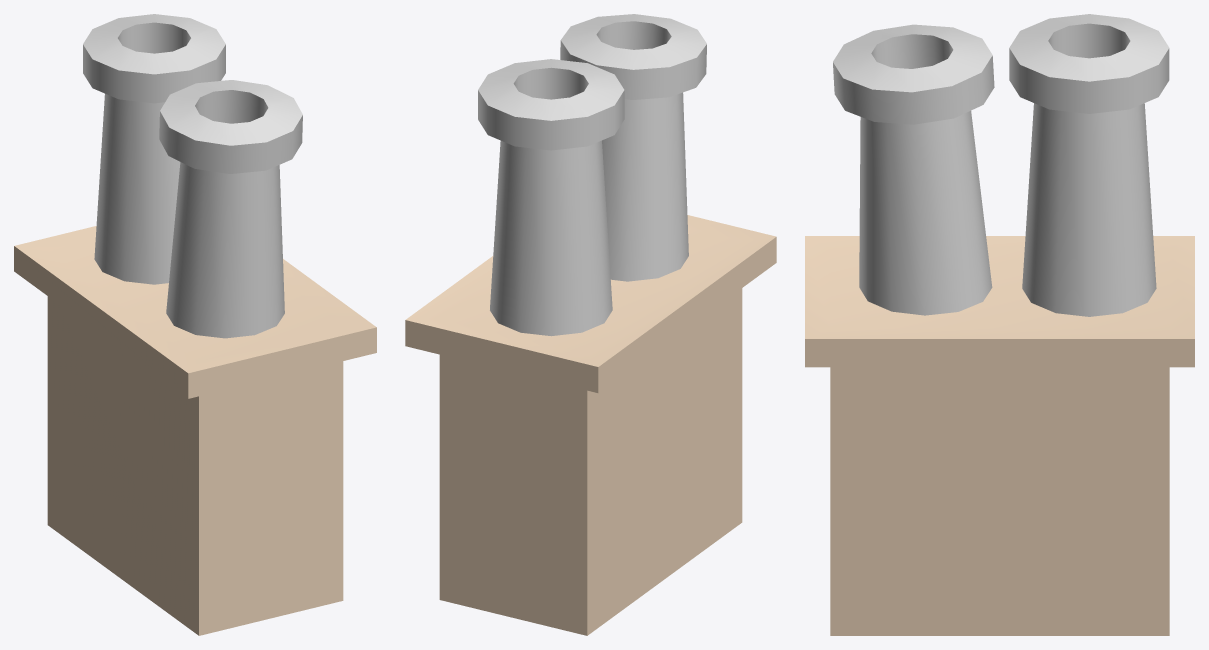
Rendered from Shimney02.fbx.
3 views of the same model, side by side, from view 1: azimuth 30°, elevation 25°; view 2: azimuth 150°, elevation 25°; view 3: azimuth 270°, elevation 25° (orthographic). The views are drawn at different scales.
Visible parts, largest first — view 1: Shimney02; view 2: Shimney02; view 3: Shimney02.
Boxes of the visible parts, left/top/right/bottom form: Shimney02: left=14, top=14, right=376, bottom=635; Shimney02: left=405, top=14, right=776, bottom=635; Shimney02: left=805, top=14, right=1194, bottom=635.
Size of the model in its own units: 54.18 by 136 by 86.65.
